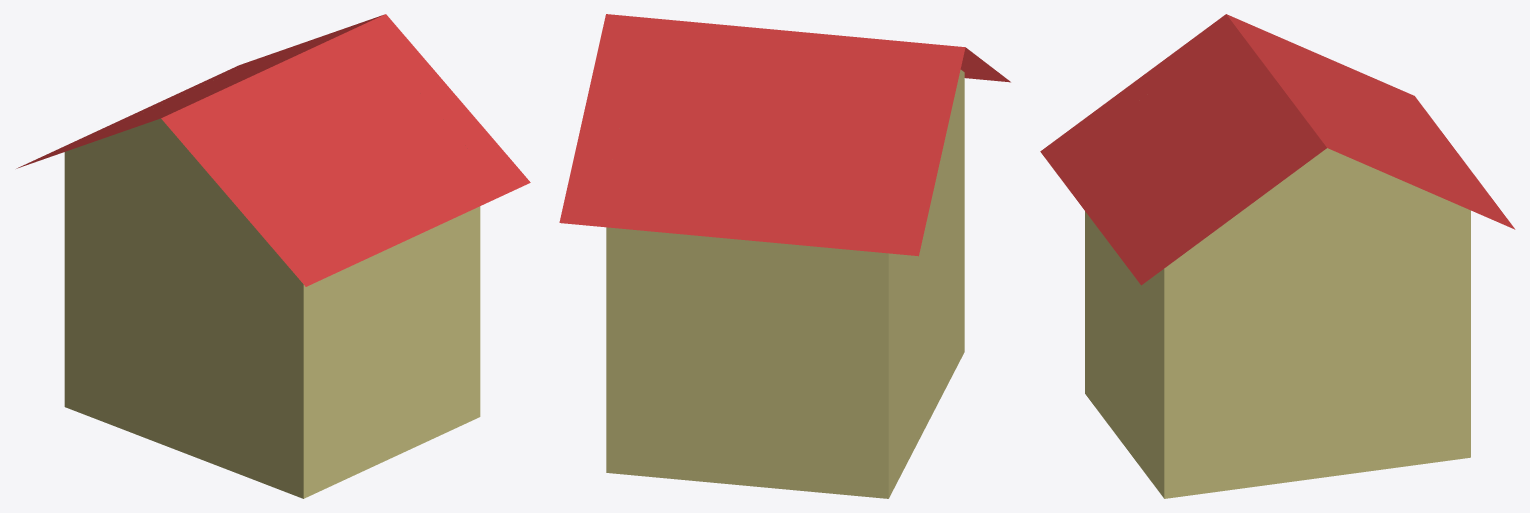
The picture shows the model from 3 angles, left to right: view 1: azimuth 30°, elevation 25°; view 2: azimuth 150°, elevation 25°; view 3: azimuth 270°, elevation 25°; orthographic projection. The views are drawn at different scales.
Size of the model in its own units: 12.23 by 13.32 by 10.66.
